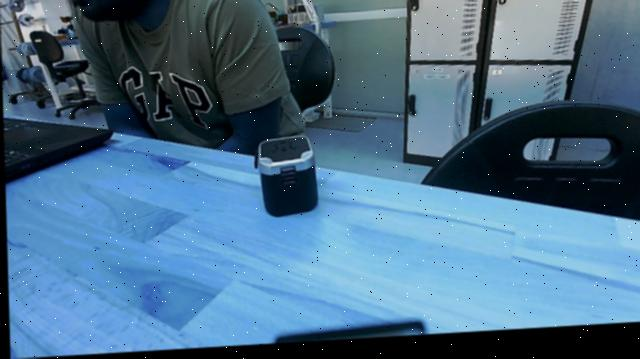adapter: (252, 136, 321, 222)
